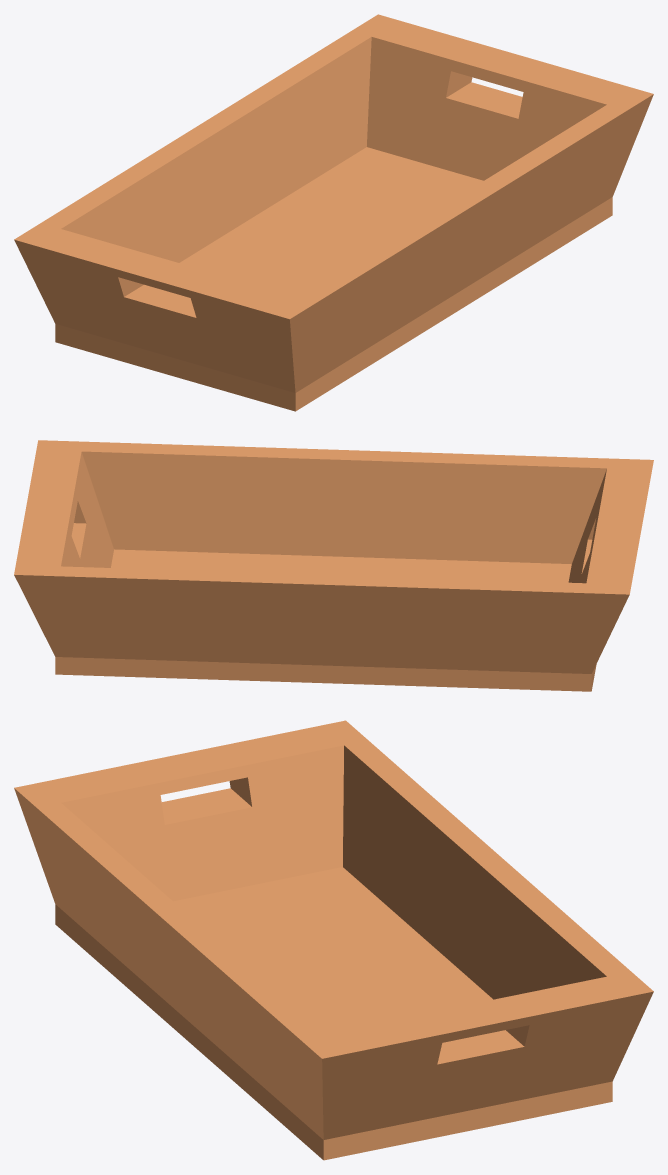
File: potinho.fbx
3 renders of one model, top to bottom at view 1: azimuth 30°, elevation 25°; view 2: azimuth 150°, elevation 25°; view 3: azimuth 270°, elevation 25°, orthographic. The views are drawn at different scales.
Visible parts, largest first — view 1: Cube.026; view 2: Cube.026; view 3: Cube.026.
Boxes of the visible parts, x1=… form: Cube.026: x1=14, y1=14, x2=653, y2=411; Cube.026: x1=14, y1=440, x2=653, y2=691; Cube.026: x1=14, y1=720, x2=653, y2=1160.
Size of the model in its own units: 1.46 by 0.2489 by 1.17.
